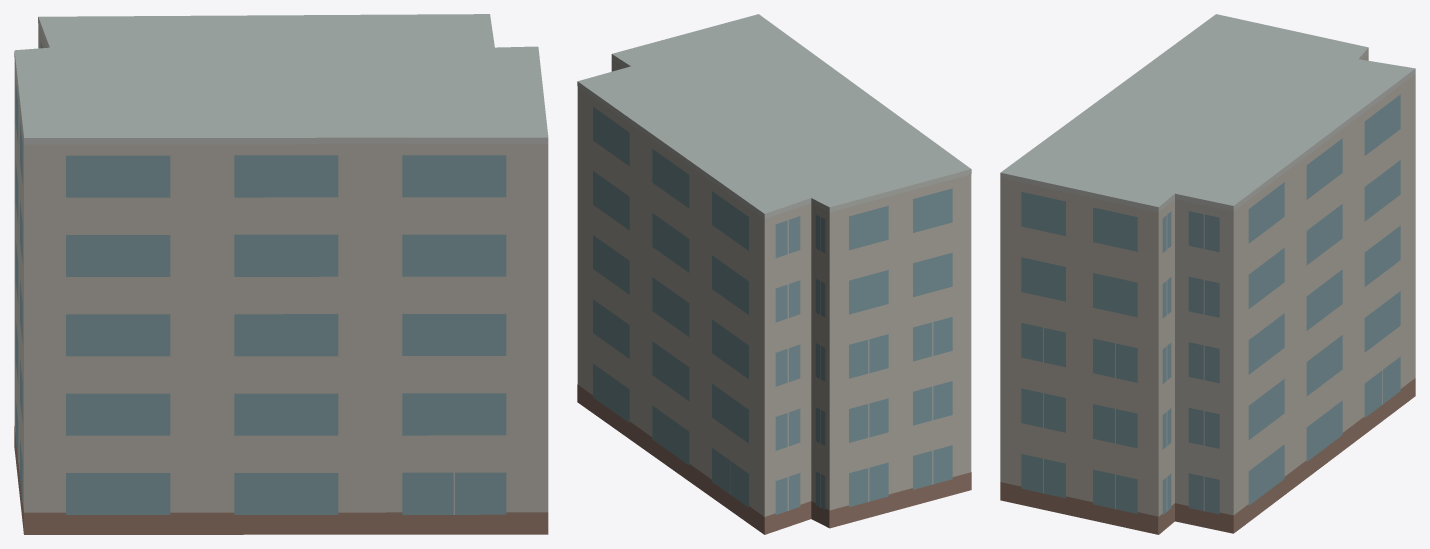
The model's file is survey-upis-32581409.glb.
3 renders of one model, left to right at view 1: azimuth 30°, elevation 25°; view 2: azimuth 150°, elevation 25°; view 3: azimuth 270°, elevation 25°, orthographic. The views are drawn at different scales.
Visible parts, largest first — view 1: survey-upis-32581409.tmp; view 2: survey-upis-32581409.tmp; view 3: survey-upis-32581409.tmp.
Part boxes in pixels (<box>): survey-upis-32581409.tmp: <box>14,14,548,534</box>; survey-upis-32581409.tmp: <box>577,14,971,534</box>; survey-upis-32581409.tmp: <box>1000,14,1415,534</box>.
Bounding box in the file's own units: 19.29 × 15.25 × 17.52.
